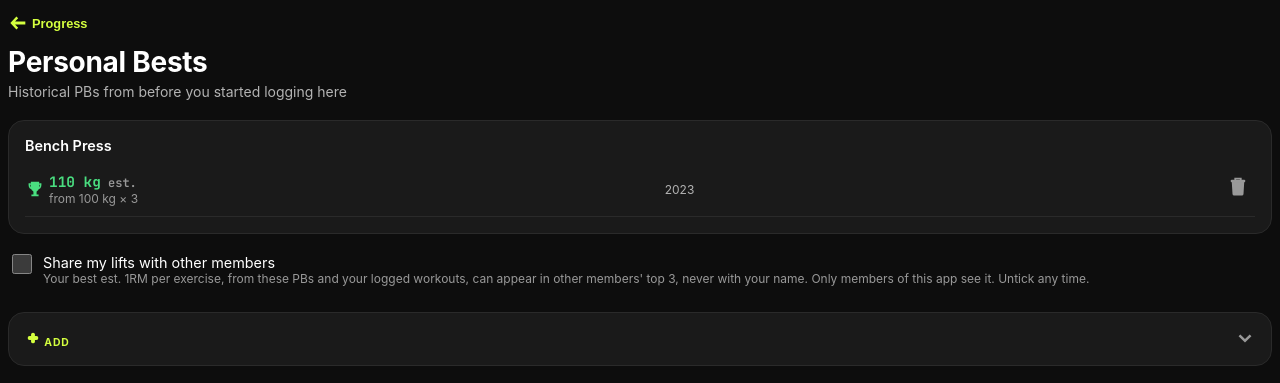
Test: PersonalBests page › a second tap on the armed button deletes the entry
Expected: the text "from 100 kg × 3" is shown, [49,191,138,206]
Click the button named "delete personal best Bench Press" at coordinates (1238, 189), box [1221,175,1255,203]
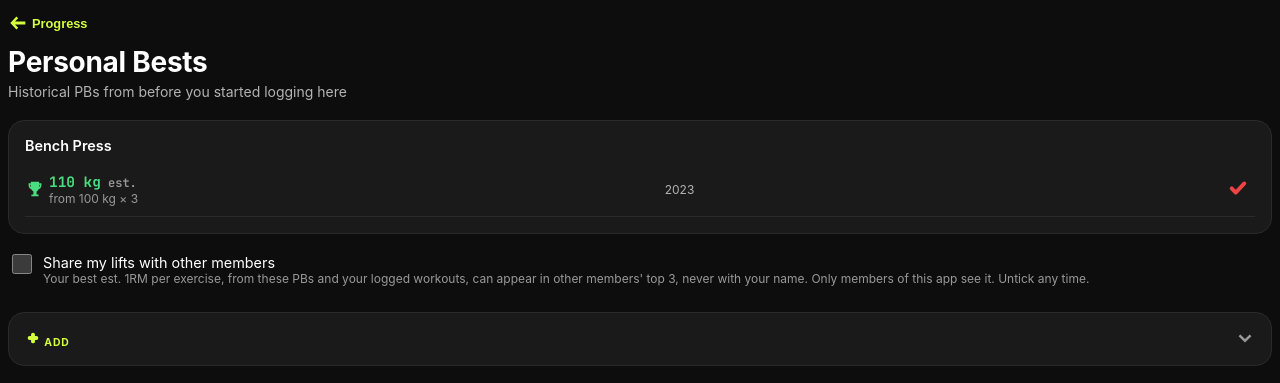
Click the button named "confirm delete personal best Bench Press" at coordinates (1238, 189), box [1221,176,1255,202]
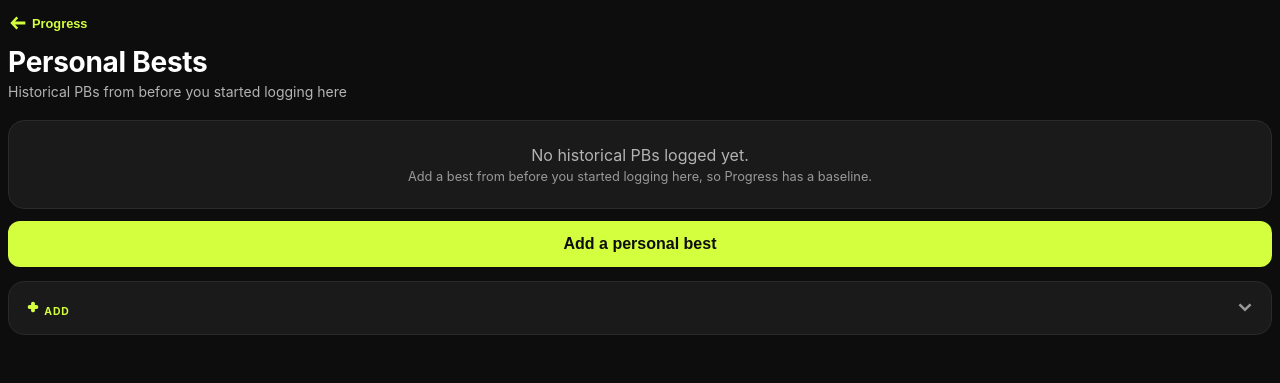
Result: the text "from 100 kg × 3" is gone
